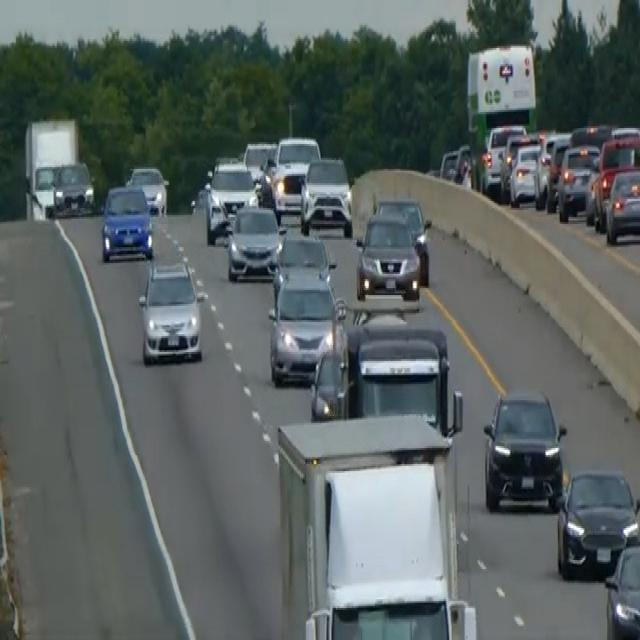bus: (463, 39, 538, 194)
car: (482, 386, 566, 512), (555, 466, 639, 580), (267, 272, 343, 386), (355, 210, 422, 306), (586, 133, 639, 230), (373, 196, 431, 284), (204, 158, 258, 244), (225, 201, 281, 281), (271, 228, 333, 300), (299, 154, 353, 236), (100, 182, 154, 262), (309, 318, 351, 420), (269, 135, 321, 215), (603, 540, 639, 638), (557, 140, 598, 220), (481, 121, 525, 192), (604, 164, 639, 245), (534, 132, 570, 210), (52, 158, 94, 214), (125, 163, 168, 217), (508, 139, 542, 206), (203, 187, 230, 245), (243, 139, 276, 183)
lorry: (275, 406, 477, 638), (346, 320, 451, 430)
minivan: (136, 254, 206, 368)
truck: (32, 162, 58, 217)
